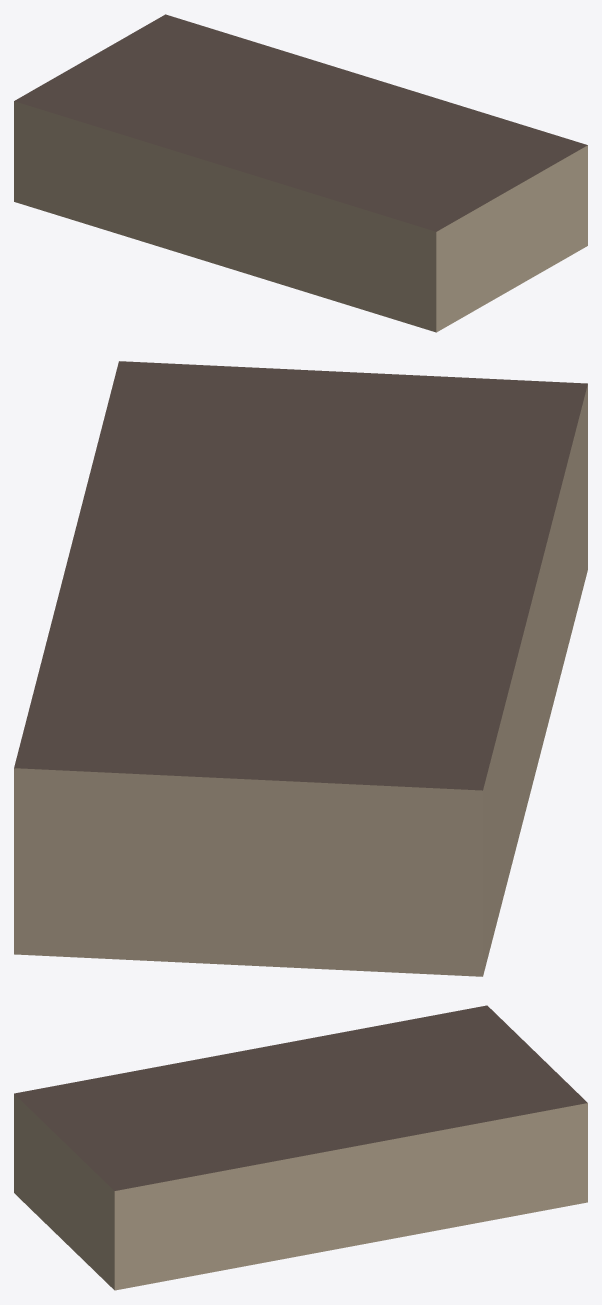
3 renders of one model, top to bottom at view 1: azimuth 30°, elevation 25°; view 2: azimuth 150°, elevation 25°; view 3: azimuth 270°, elevation 25°, orthographic. The views are drawn at different scales.
Visible parts, largest first — view 1: HP-w369342510; view 2: HP-w369342510; view 3: HP-w369342510.
Boxes of the visible parts, x1,y1,x2,y2 form: HP-w369342510: [14, 14, 587, 332]; HP-w369342510: [14, 361, 587, 976]; HP-w369342510: [14, 1005, 587, 1290].
Bounding box in the file's own units: 36.05 × 9 × 47.08.
